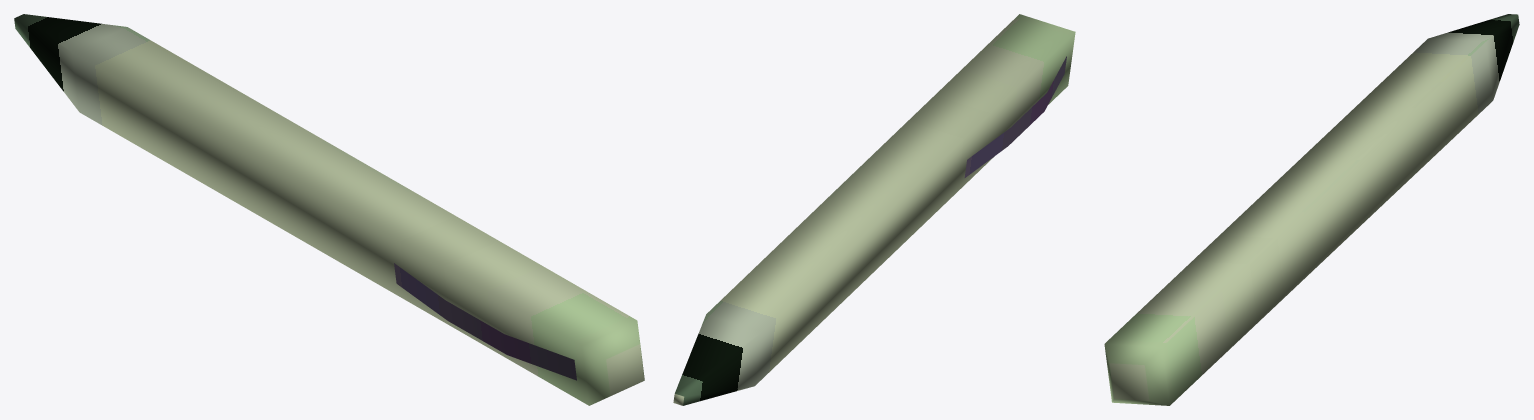
The model's file is pen6.fbx.
The picture shows the model from 3 angles, left to right: view 1: azimuth 30°, elevation 25°; view 2: azimuth 150°, elevation 25°; view 3: azimuth 330°, elevation 25°; orthographic projection. The views are drawn at different scales.
Parts seen in each view (by area): view 1: pen6; view 2: pen6; view 3: pen6.
Part boxes in pixels (x1=…): pen6: x1=14, y1=14, x2=644, y2=405; pen6: x1=673, y1=14, x2=1075, y2=405; pen6: x1=1104, y1=14, x2=1519, y2=405.
Bounding box in the file's own units: 3.79 × 1.81 × 23.07.
Materials: 1 (1 with a texture image).
